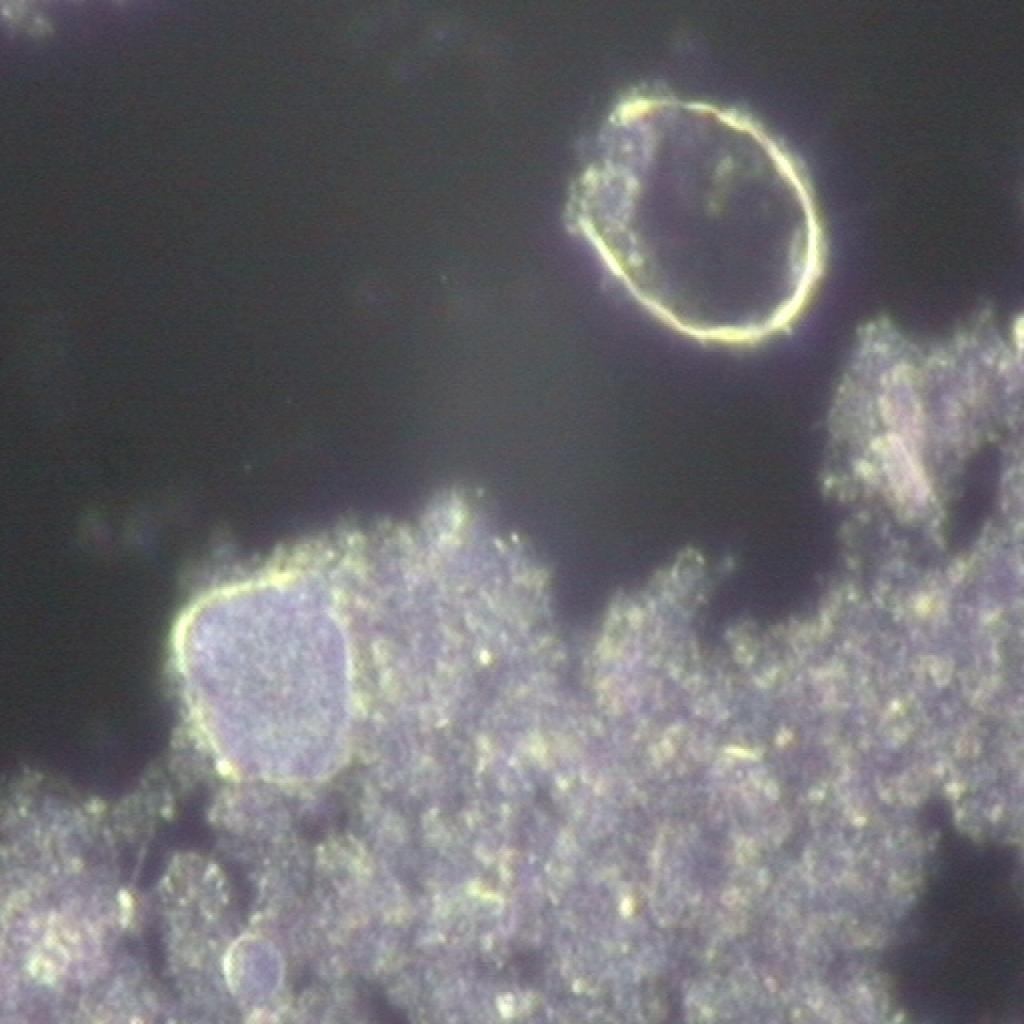Euglypha: (522, 46, 858, 359)
